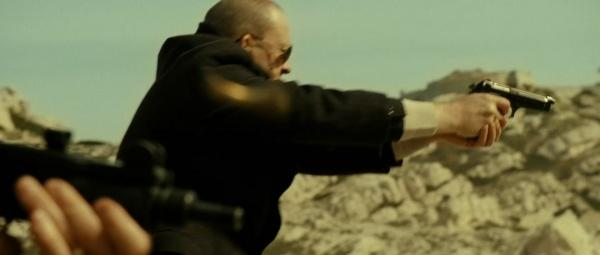Gun: (470, 78, 556, 119)
